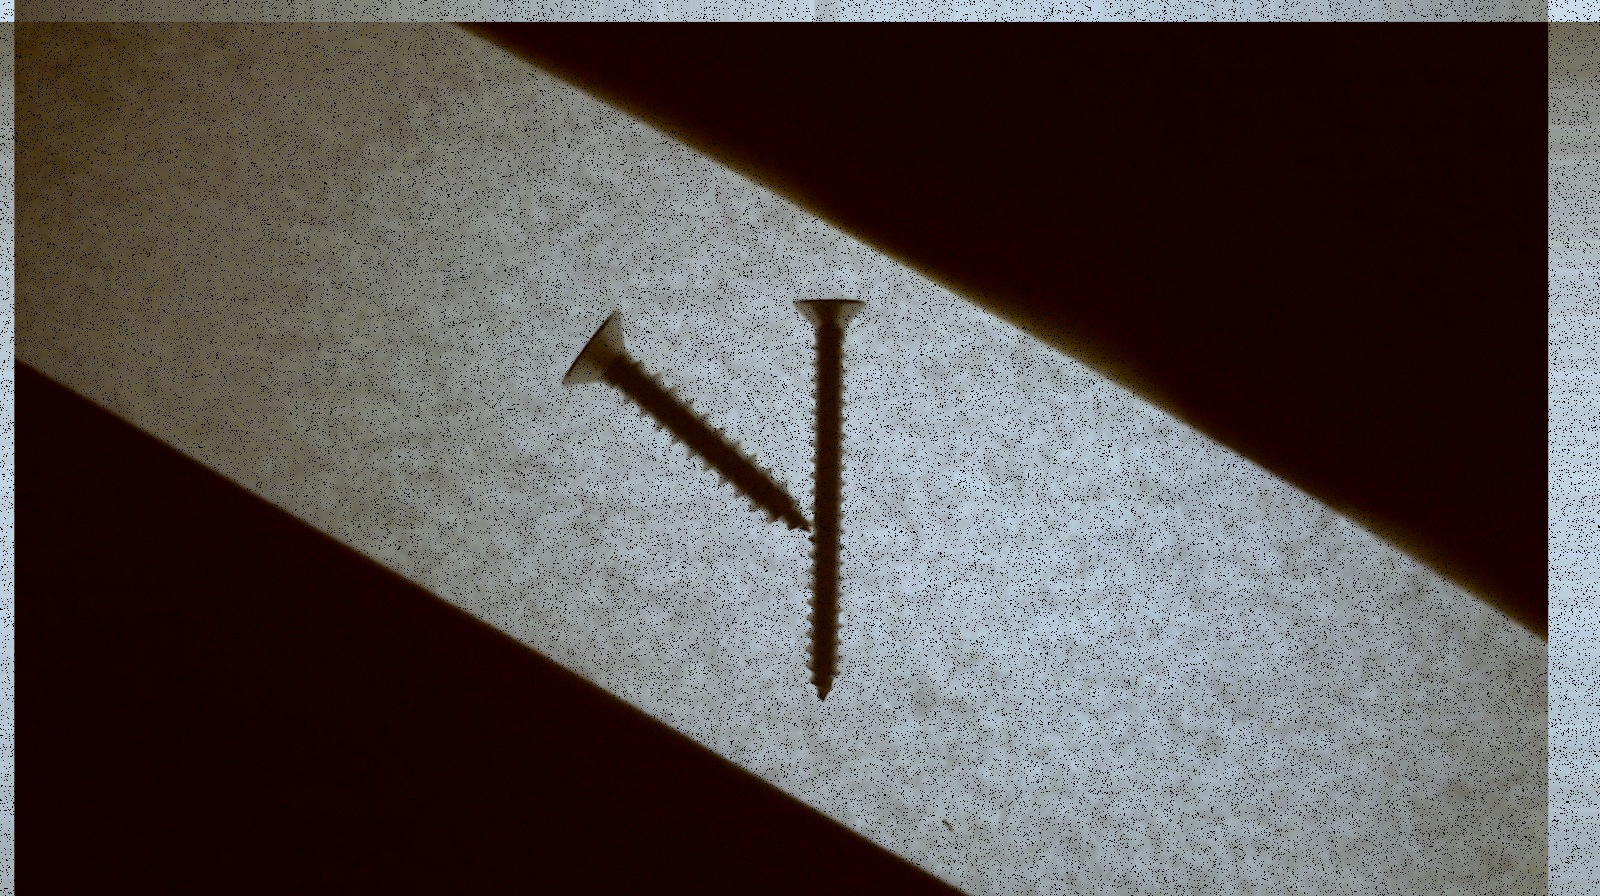S001: (555, 298, 803, 547)
S002: (784, 281, 870, 710)
